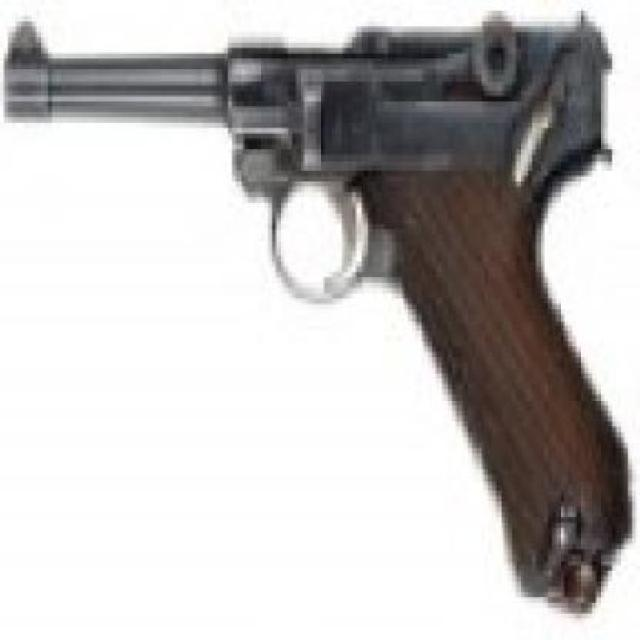gun: (4, 10, 632, 607)
